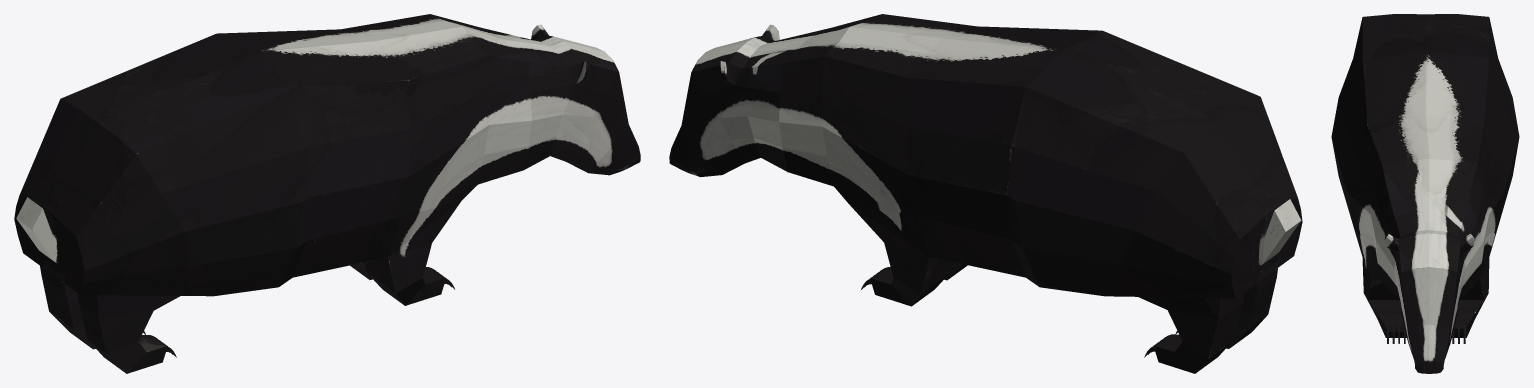
The model's file is Badger.obj.
The picture shows the model from 3 angles, left to right: view 1: azimuth 30°, elevation 25°; view 2: azimuth 150°, elevation 25°; view 3: azimuth 270°, elevation 25°; orthographic projection. The views are drawn at different scales.
Visible parts, largest first — view 1: Plane.007_Material.003; view 2: Plane.007_Material.003; view 3: Plane.007_Material.003.
Part boxes in pixels (x1,y1,x2,y2): Plane.007_Material.003: (14,14,640,373); Plane.007_Material.003: (669,14,1302,373); Plane.007_Material.003: (1331,14,1519,373).
Size of the model in its own units: 37.94 by 15.65 by 12.05.
1 material, 1 textured.
